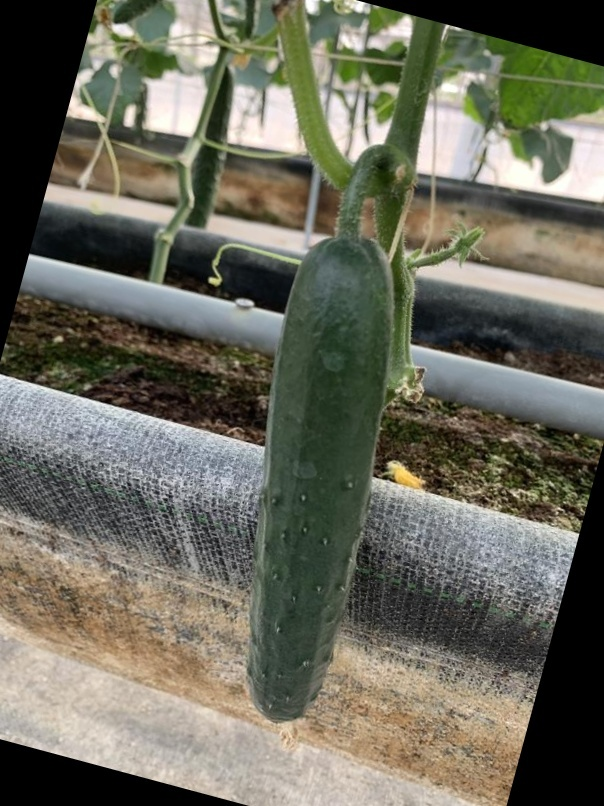mature: (240, 239, 399, 745)
